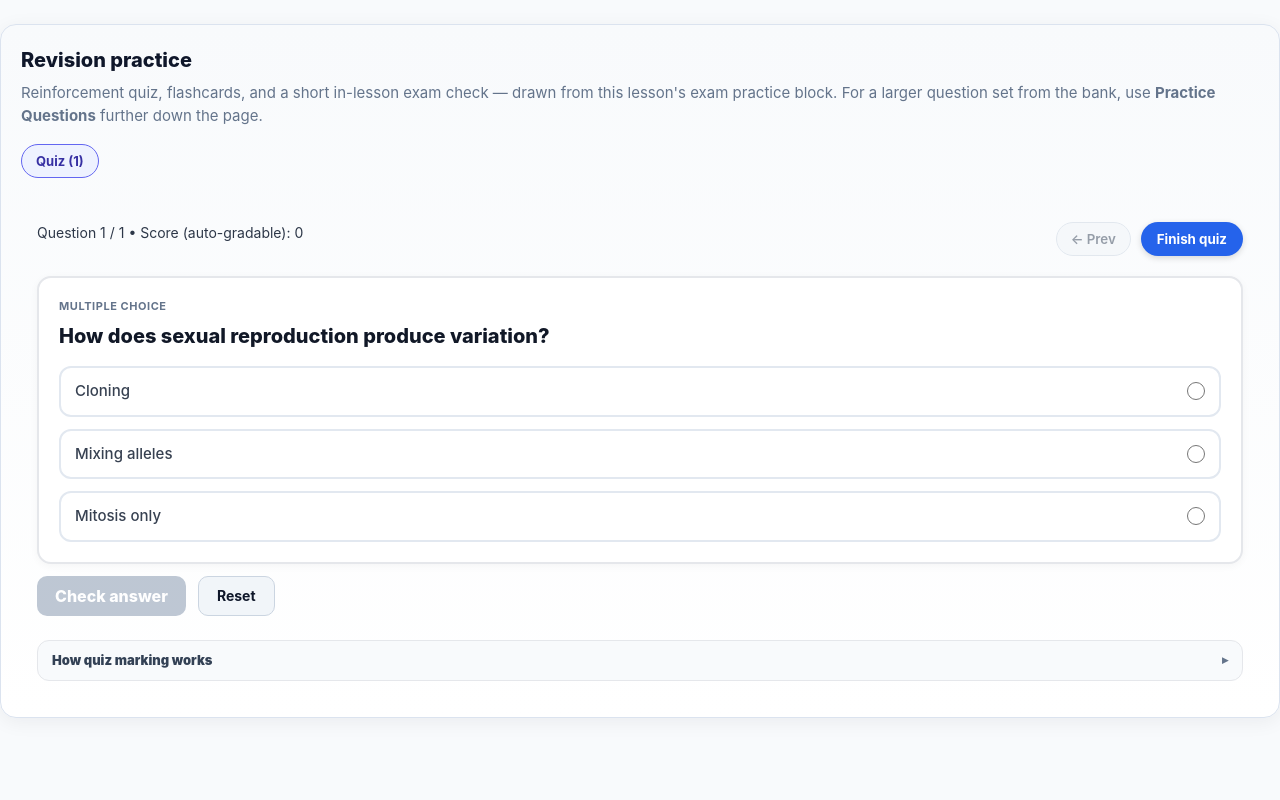
StudentRetrievalSection fresh CTA gate › Retry same quiz clears matching persisted completion
The image size is (1280, 800).
Click the radio button named "Cloning" at (1196, 391), box [1187, 382, 1205, 400]
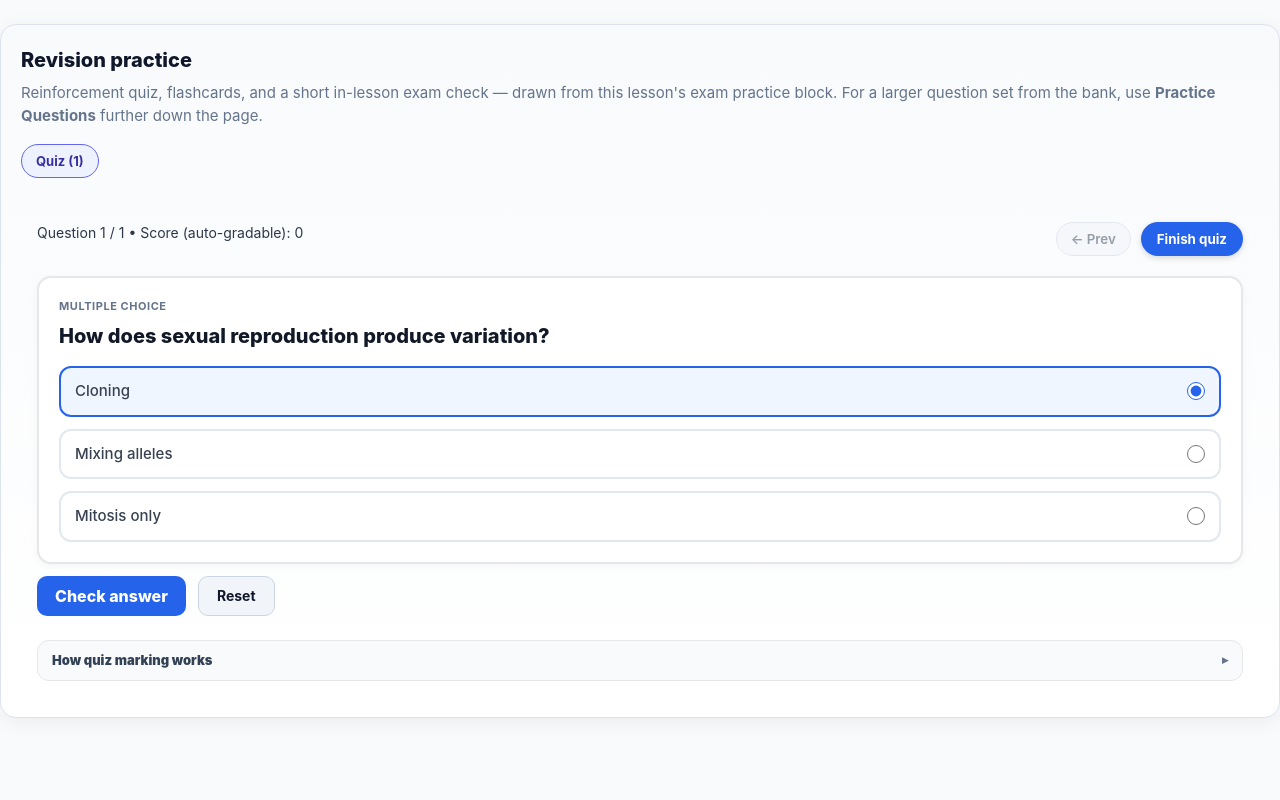
Click the button "Check answer" at (111, 596), box [37, 576, 186, 616]
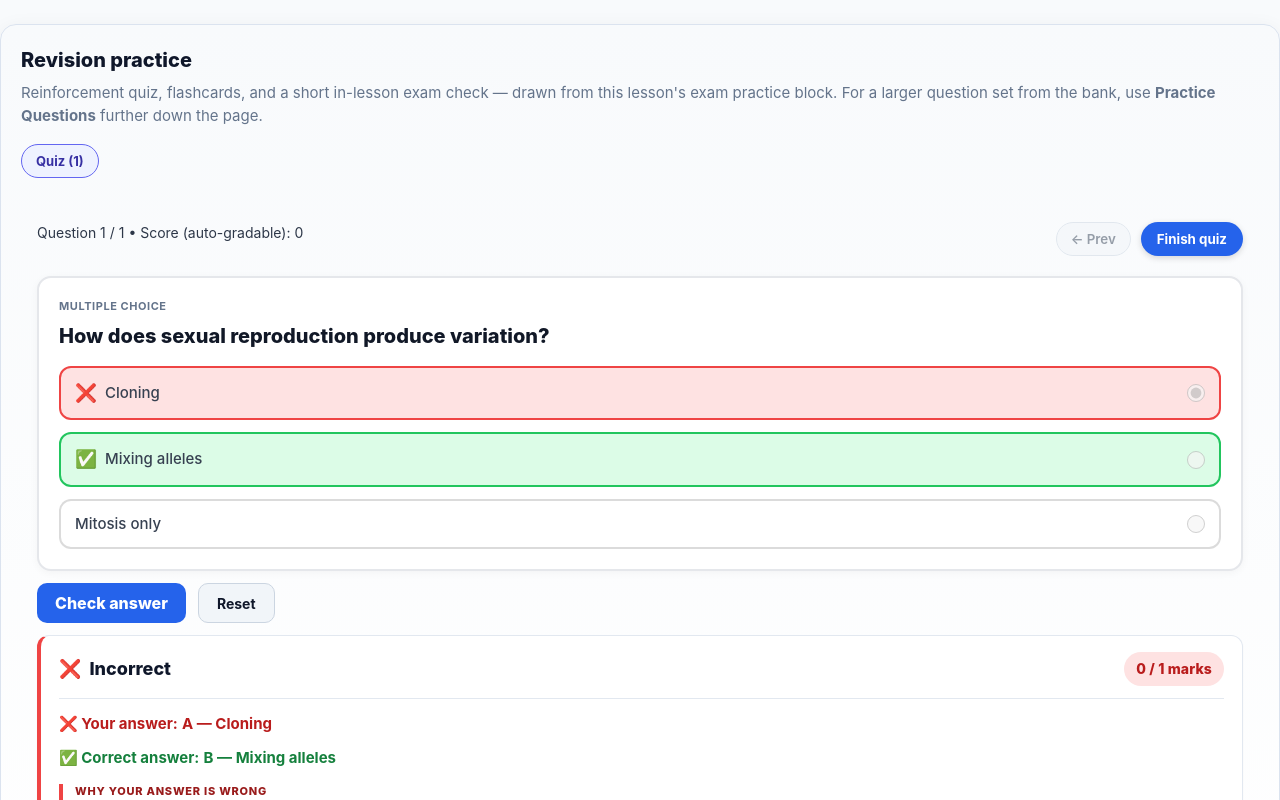
Click the button "Finish quiz" at (1192, 238), box [1141, 222, 1243, 256]
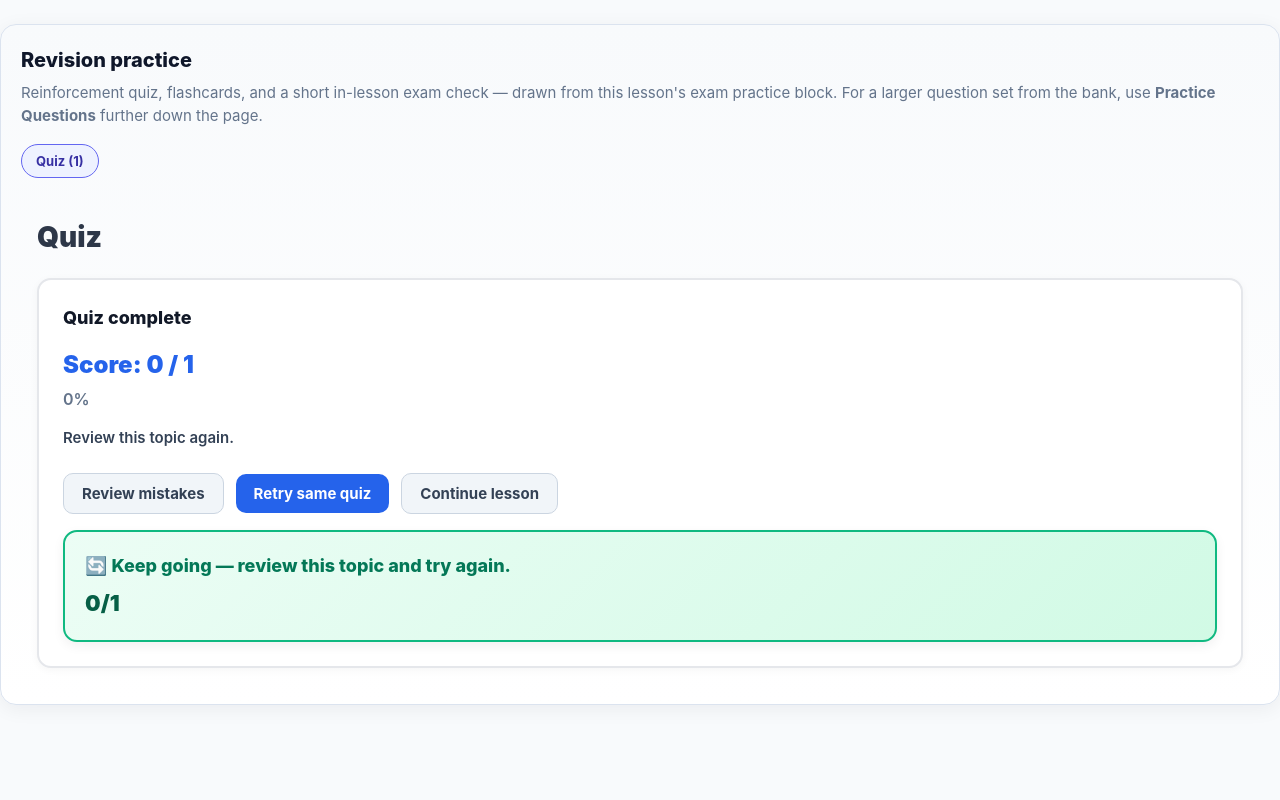
Expected: the button with test id "revision-try-again" is shown
Click the button with test id "revision-try-again" at (312, 494), box [236, 474, 389, 513]
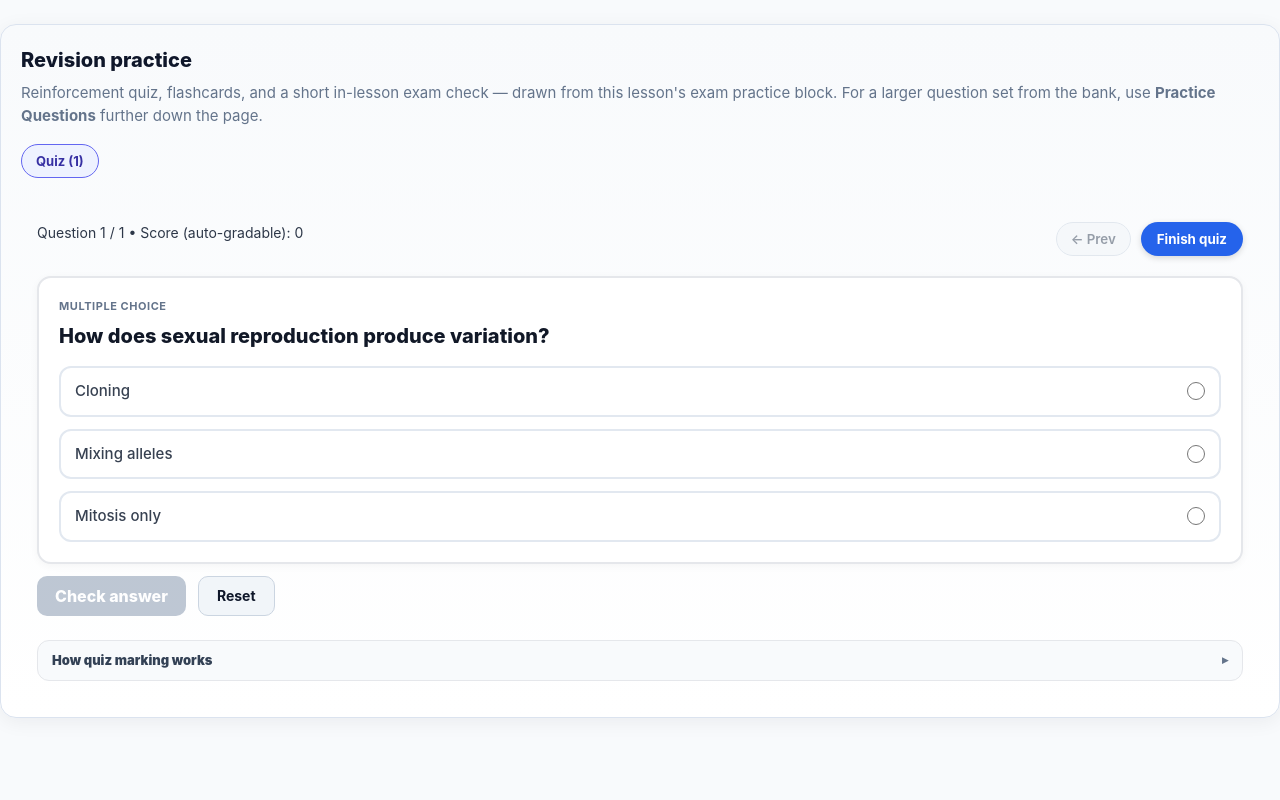
Expected: the button with test id "revision-try-again" is gone
